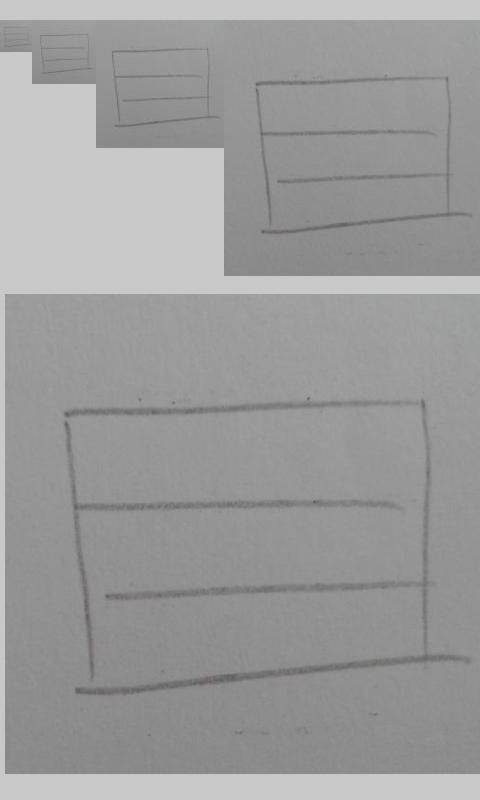list_view: (54, 396, 436, 700), (252, 75, 454, 235), (111, 47, 211, 127), (39, 33, 90, 74), (3, 25, 30, 48)
